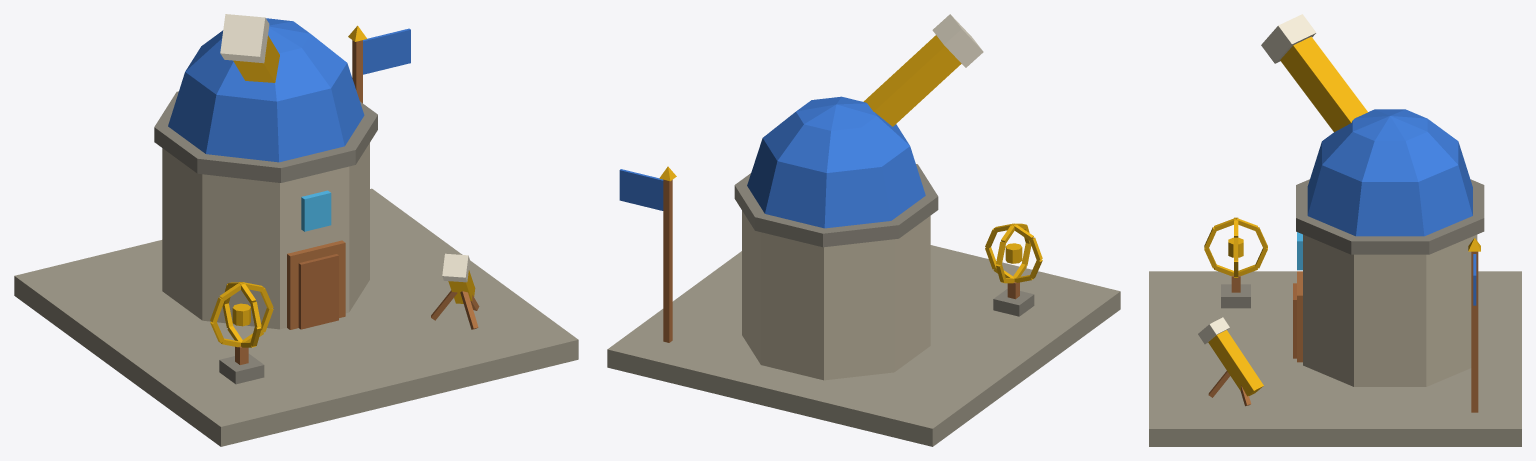
File: observatory_t2_v1.glb
3 views of the same model, side by side, from view 1: azimuth 30°, elevation 25°; view 2: azimuth 150°, elevation 25°; view 3: azimuth 270°, elevation 25° (orthographic). The views are drawn at different scales.
Parts seen in each view (by area): view 1: observatory_t2_v1; view 2: observatory_t2_v1; view 3: observatory_t2_v1.
Part boxes in pixels (left/top/right/bottom): observatory_t2_v1: left=14, top=14, right=578, bottom=446; observatory_t2_v1: left=607, top=14, right=1120, bottom=446; observatory_t2_v1: left=1149, top=14, right=1521, bottom=446.
Size of the model in its own units: 0.775 by 0.6989 by 0.75.
Materials: 1 (1 with a texture image).
